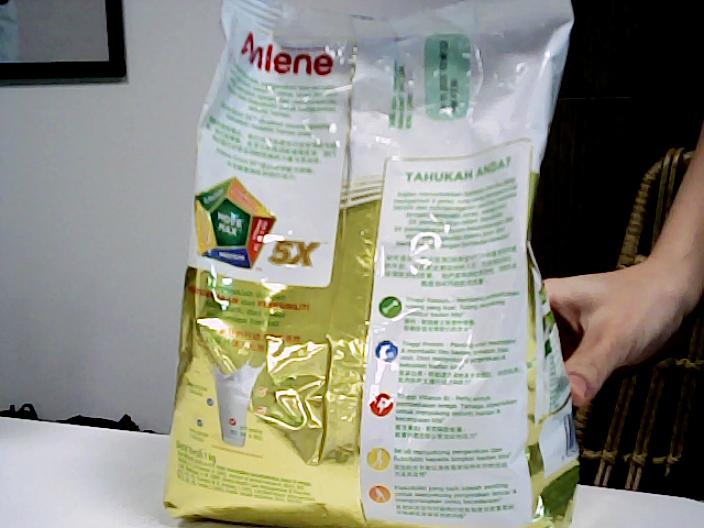Adult_Milk_1000-1999g_Halal_NonHealthy: (167, 1, 577, 528)
